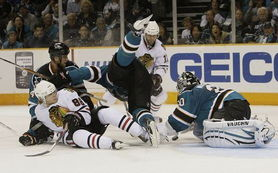10+: (1, 1, 277, 165)
down: (53, 12, 165, 154), (21, 78, 170, 154), (159, 67, 275, 149)
